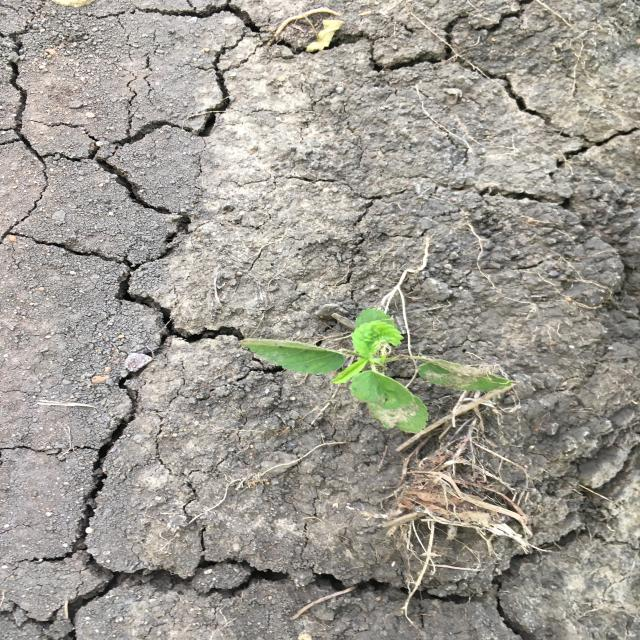PricklySida: (237, 305, 522, 436)
